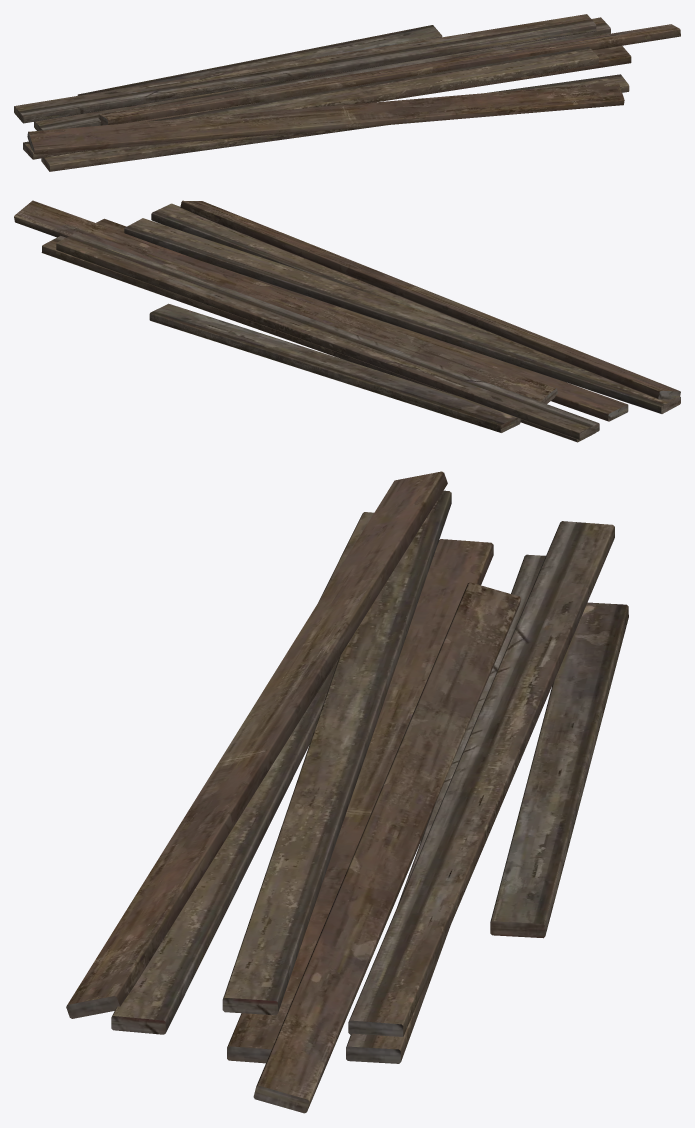
Rendered from Wooden_Pile.glb.
3 views of the same model, one above another, from view 1: azimuth 30°, elevation 25°; view 2: azimuth 150°, elevation 25°; view 3: azimuth 270°, elevation 25° (orthographic). The views are drawn at different scales.
Parts seen in each view (by area): view 1: SM_Wooden_Pile; view 2: SM_Wooden_Pile; view 3: SM_Wooden_Pile.
Part boxes in pixels (x1,y1,x2,y2): SM_Wooden_Pile: (14, 14, 680, 171); SM_Wooden_Pile: (14, 200, 680, 442); SM_Wooden_Pile: (66, 471, 628, 1113).
Bounding box in the file's own units: 3.94 × 0.1892 × 1.56.
Materials: 1 (1 with a texture image).
